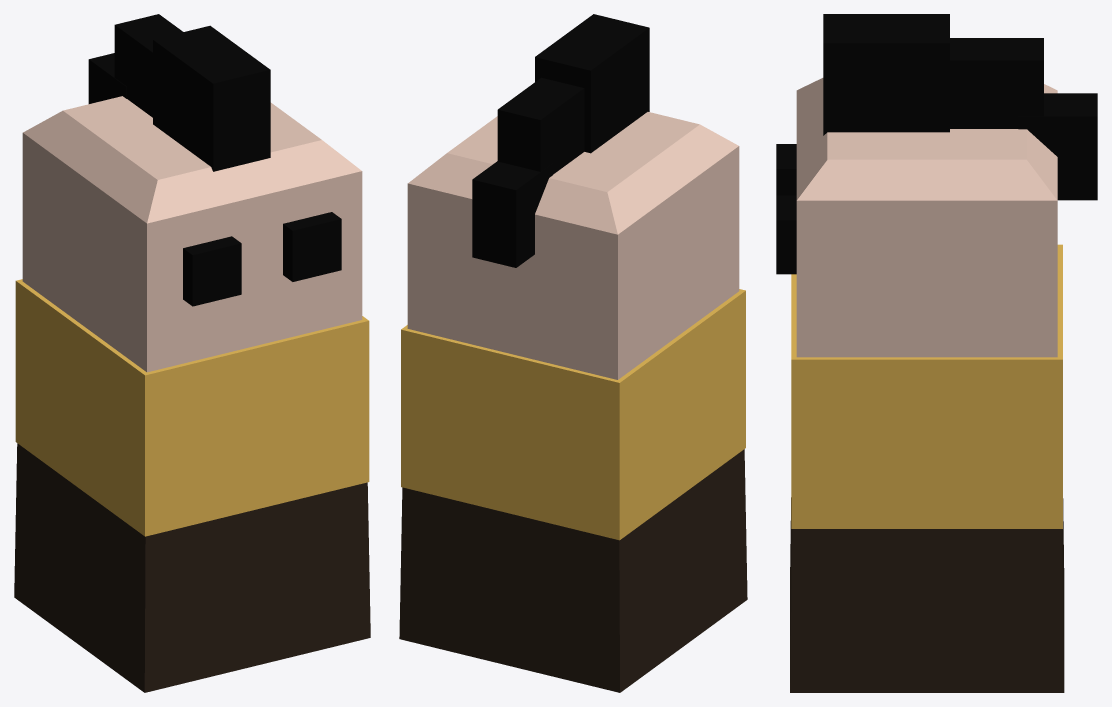
The model's file is enemy.fbx.
3 renders of one model, left to right at view 1: azimuth 30°, elevation 25°; view 2: azimuth 150°, elevation 25°; view 3: azimuth 270°, elevation 25°, orthographic. The views are drawn at different scales.
Visible parts, largest first — view 1: Cube; view 2: Cube; view 3: Cube.
Part boxes in pixels (left/top/right/bottom): Cube: left=14, top=14, right=370, bottom=692; Cube: left=399, top=14, right=747, bottom=692; Cube: left=776, top=14, right=1097, bottom=692.
Size of the model in its own units: 210 by 512 by 246.
